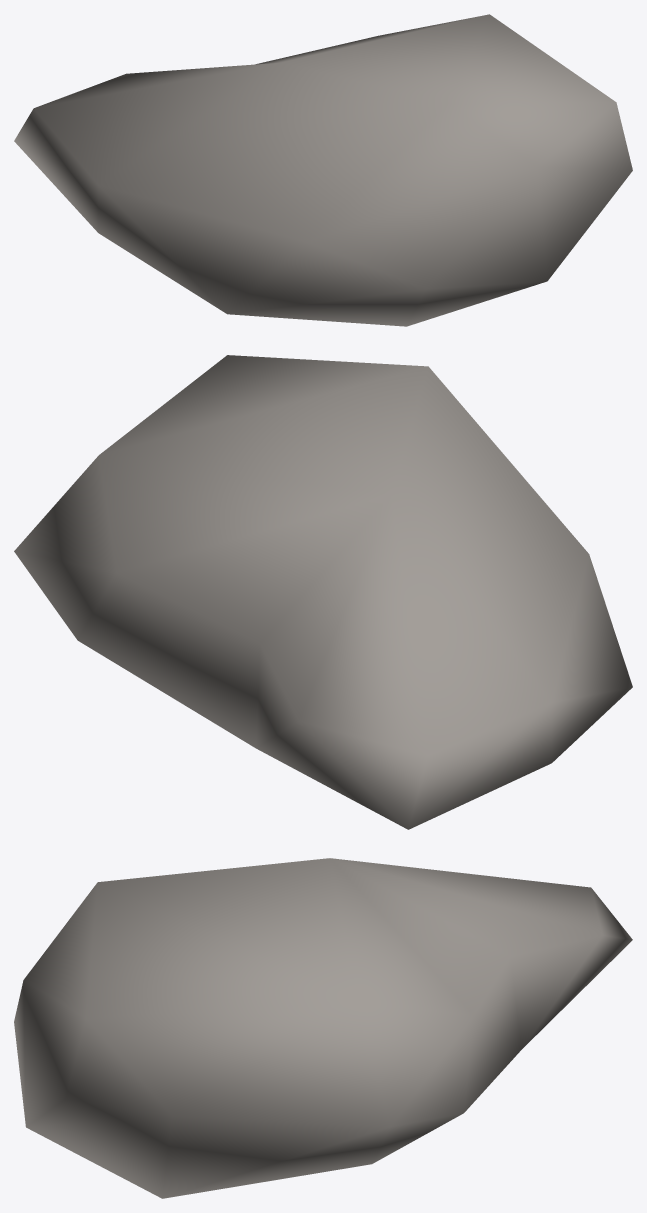
The model's file is rpgpp_ag_rock_small_03.fbx.
3 views of the same model, one above another, from view 1: azimuth 30°, elevation 25°; view 2: azimuth 150°, elevation 25°; view 3: azimuth 270°, elevation 25° (orthographic). The views are drawn at different scales.
Visible parts, largest first — view 1: rpgpp_ag_rock_small_03; view 2: rpgpp_ag_rock_small_03; view 3: rpgpp_ag_rock_small_03.
Part boxes in pixels (x1,y1,x2,y2): rpgpp_ag_rock_small_03: [14, 14, 632, 326]; rpgpp_ag_rock_small_03: [14, 355, 632, 829]; rpgpp_ag_rock_small_03: [14, 858, 632, 1198].
Size of the model in its own units: 0.6538 by 0.31 by 0.6882.
